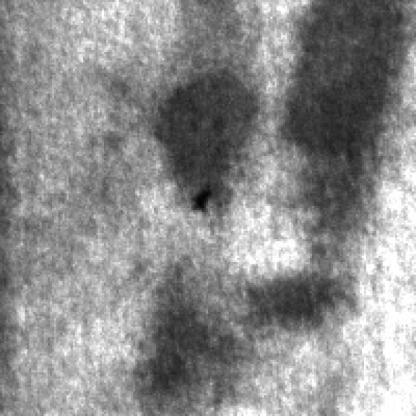patches: (268, 2, 404, 260), (127, 268, 281, 410), (148, 71, 258, 218), (221, 262, 370, 345)
